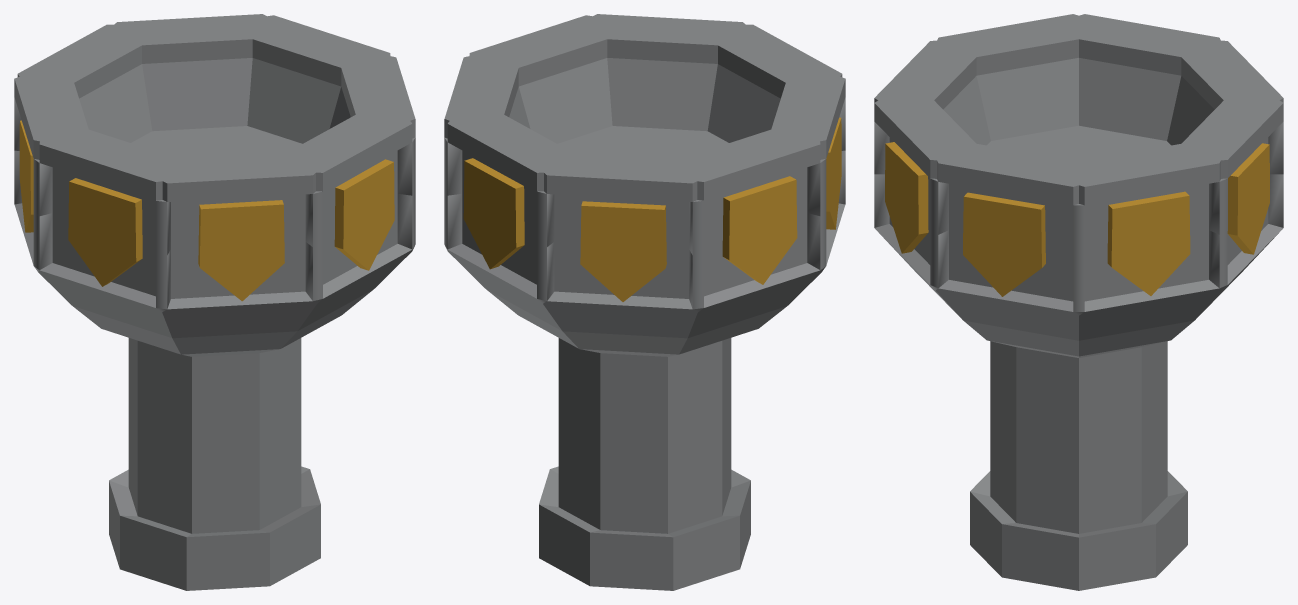
File: FONT_V1.fbx
The picture shows the model from 3 angles, left to right: view 1: azimuth 30°, elevation 25°; view 2: azimuth 150°, elevation 25°; view 3: azimuth 270°, elevation 25°; orthographic projection.
Parts seen in each view (by area): view 1: Font; view 2: Font; view 3: Font.
Boxes of the visible parts, x1,y1,x2,y2 form: Font: [14, 14, 415, 590]; Font: [444, 14, 845, 590]; Font: [874, 14, 1283, 590].
Size of the model in its own units: 212 by 254 by 212.
